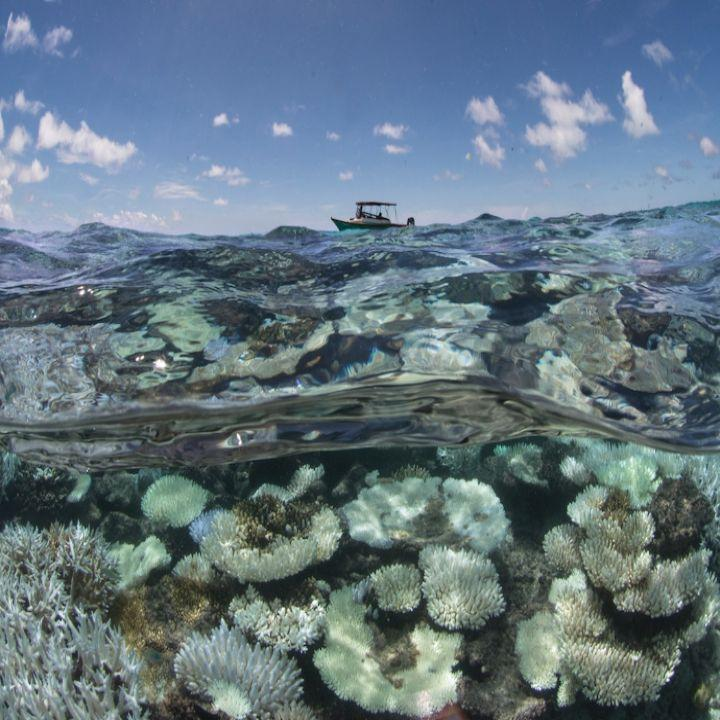Bleached-disease: (142, 466, 513, 720), (0, 525, 172, 720)
